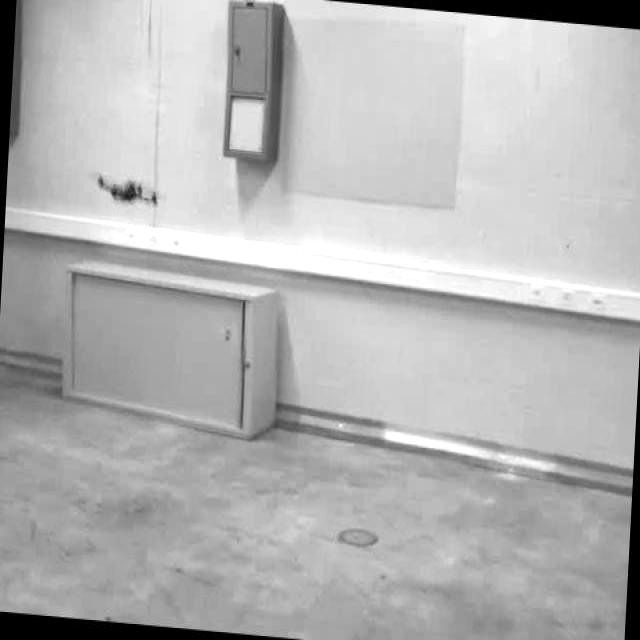drone: (92, 165, 162, 214)
